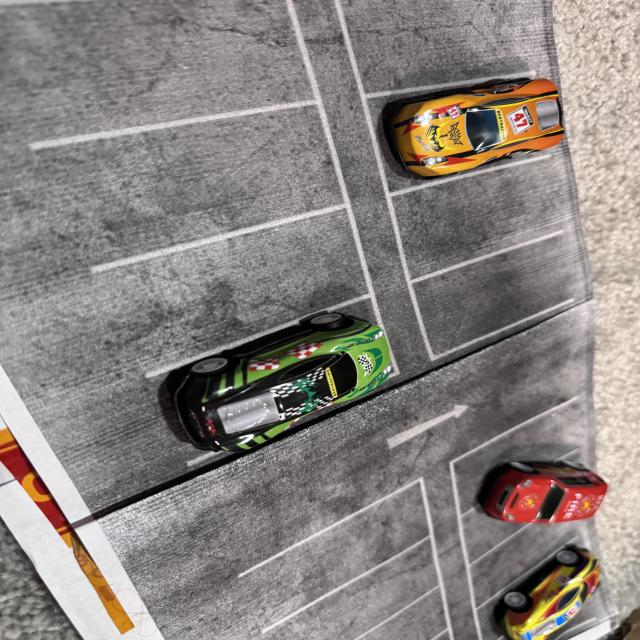car: (127, 289, 411, 453), (392, 49, 568, 178), (420, 543, 630, 640), (505, 455, 602, 528)
